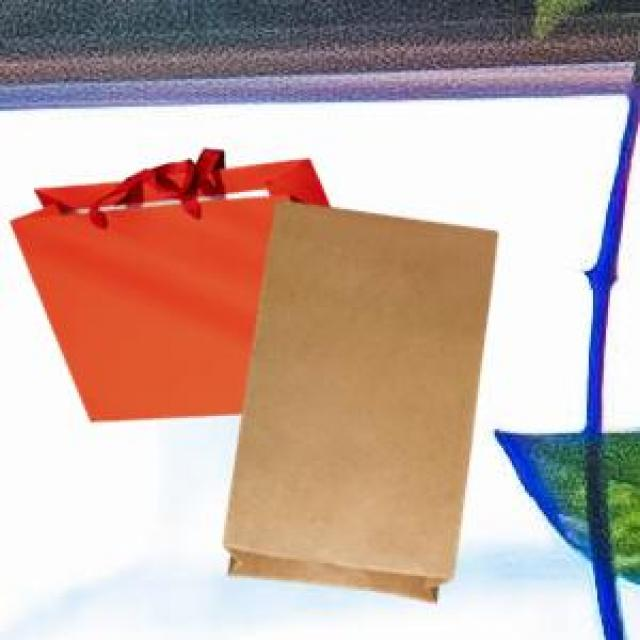Paper -Biodegradable-: (225, 204, 497, 601), (3, 161, 328, 424)
